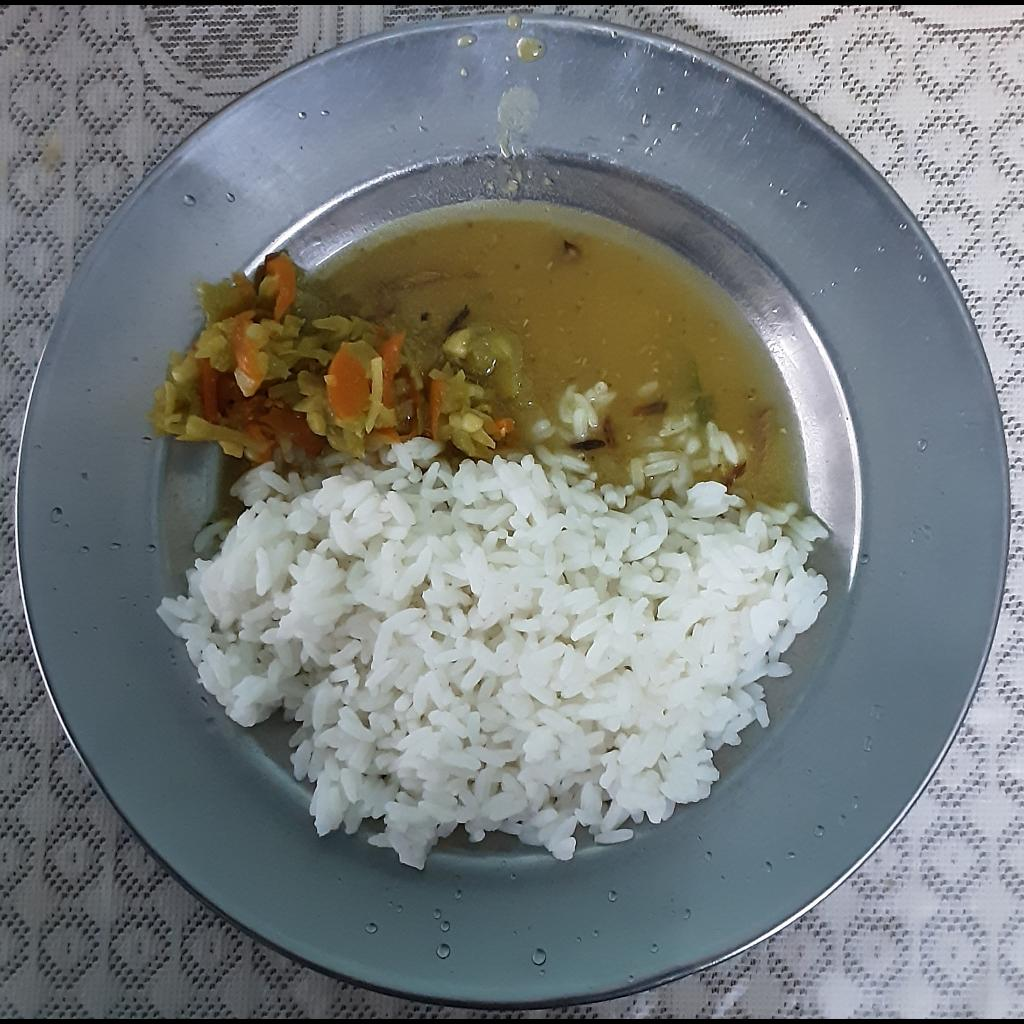carrot: (204, 370, 307, 441), (324, 346, 368, 426), (377, 328, 415, 413), (271, 253, 298, 328), (231, 308, 257, 379), (429, 378, 454, 443), (489, 418, 517, 440)
chichinga-vaji: (253, 318, 377, 451), (441, 315, 541, 451), (190, 269, 271, 365)
daal: (287, 217, 787, 498)
potato: (150, 353, 261, 460), (362, 359, 384, 437)
rice: (159, 385, 830, 870)
